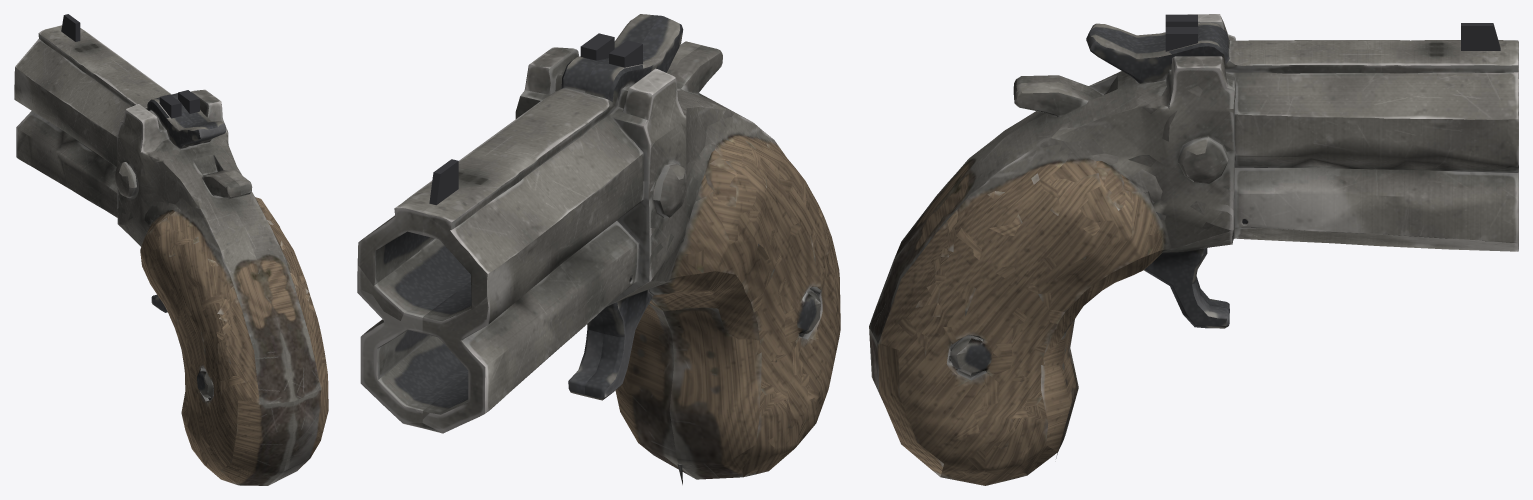
The model's file is derringer.glb.
3 renders of one model, left to right at view 1: azimuth 30°, elevation 25°; view 2: azimuth 150°, elevation 25°; view 3: azimuth 270°, elevation 25°, orthographic. The views are drawn at different scales.
Parts seen in each view (by area): view 1: derringer_world, front_blade, rear_notch-1, rear_notch1; view 2: derringer_world, front_blade, rear_notch-1, rear_notch1; view 3: derringer_world, front_blade, rear_notch1.
Boxes of the visible parts, <box> form: derringer_world: <box>14,25,328,485</box>; front_blade: <box>61,14,80,41</box>; rear_notch-1: <box>159,94,181,118</box>; rear_notch1: <box>178,90,199,113</box>; derringer_world: <box>357,14,840,484</box>; front_blade: <box>429,159,458,205</box>; rear_notch-1: <box>609,40,642,67</box>; rear_notch1: <box>580,33,614,60</box>; derringer_world: <box>869,14,1518,485</box>; front_blade: <box>1461,23,1500,50</box>; rear_notch1: <box>1165,27,1197,51</box>.
Size of the model in its own units: 0.0482 by 0.1233 by 0.1606.
Materials: 2 (1 with a texture image).
